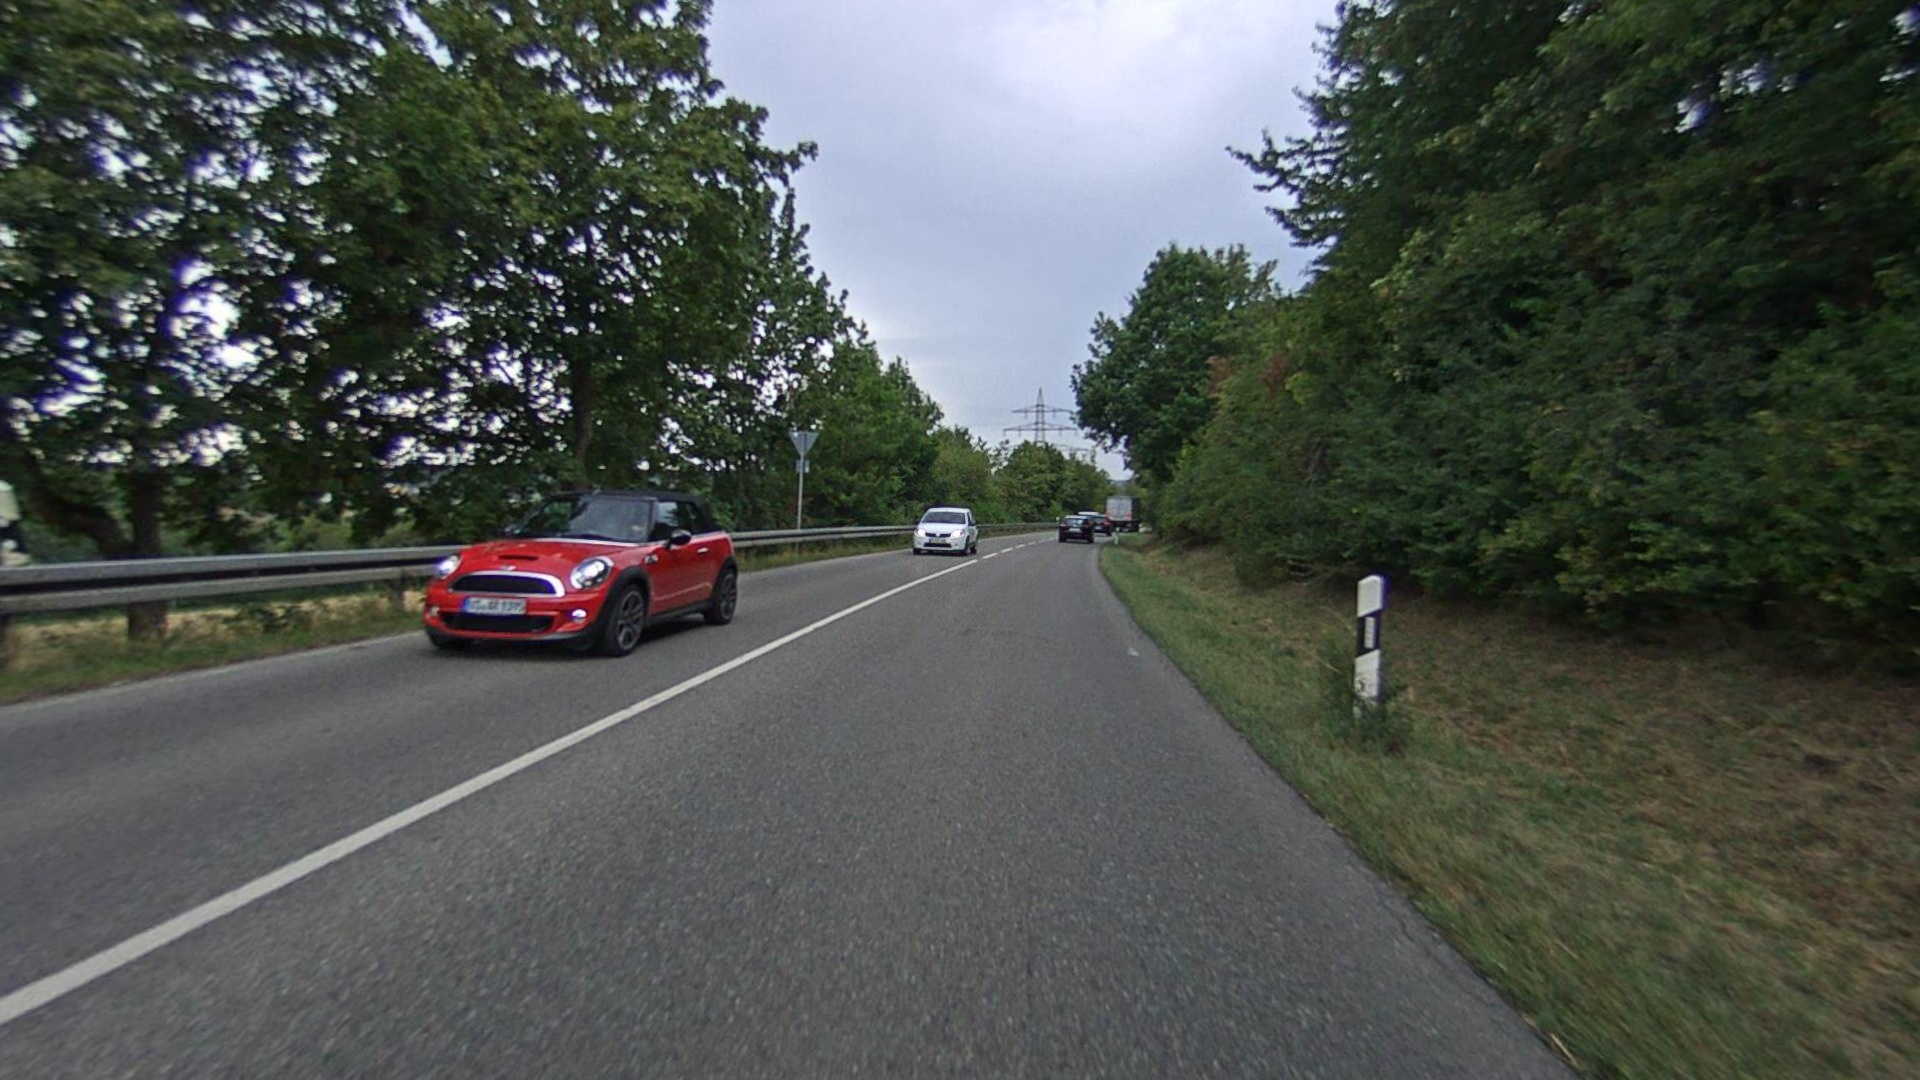car: (415, 488, 746, 662)
